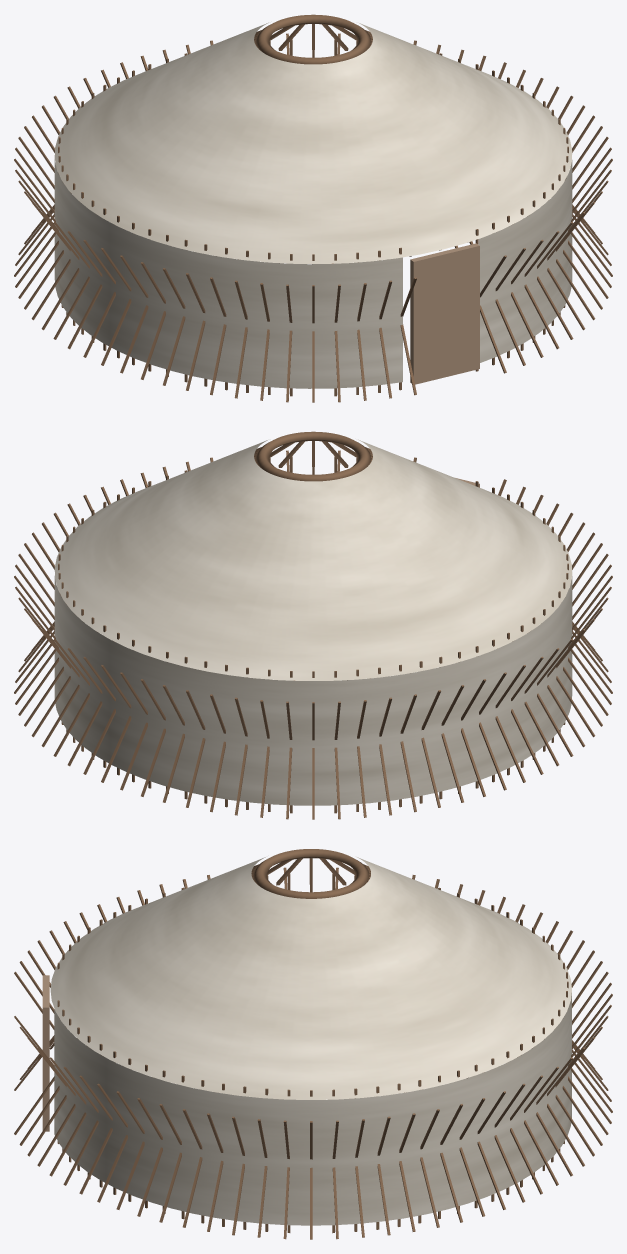
The model's file is yurt.glb.
The picture shows the model from 3 angles, top to bottom: view 1: azimuth 30°, elevation 25°; view 2: azimuth 150°, elevation 25°; view 3: azimuth 270°, elevation 25°; orthographic projection.
Parts seen in each view (by area): view 1: kiiz, kerege, esik, shanyrak, uyki; view 2: kiiz, kerege, shanyrak, uyki; view 3: kiiz, kerege, shanyrak, esik, uyki.
Boxes of the visible parts, box(x1,y1,x2,y2) form: kiiz: box(54, 22, 572, 388); kerege: box(14, 33, 612, 402); esik: box(410, 243, 479, 384); shanyrak: box(255, 14, 371, 64); uyki: box(216, 24, 440, 263); kiiz: box(54, 439, 572, 805); kerege: box(14, 450, 612, 819); shanyrak: box(255, 431, 371, 481); uyki: box(254, 441, 372, 680); kiiz: box(50, 857, 571, 1225); kerege: box(14, 867, 612, 1239); shanyrak: box(253, 849, 369, 898); esik: box(42, 975, 49, 1131); uyki: box(251, 858, 467, 1078).
Bounding box in the file's own units: 7.06 × 3.28 × 7.
3 materials, 1 textured.
